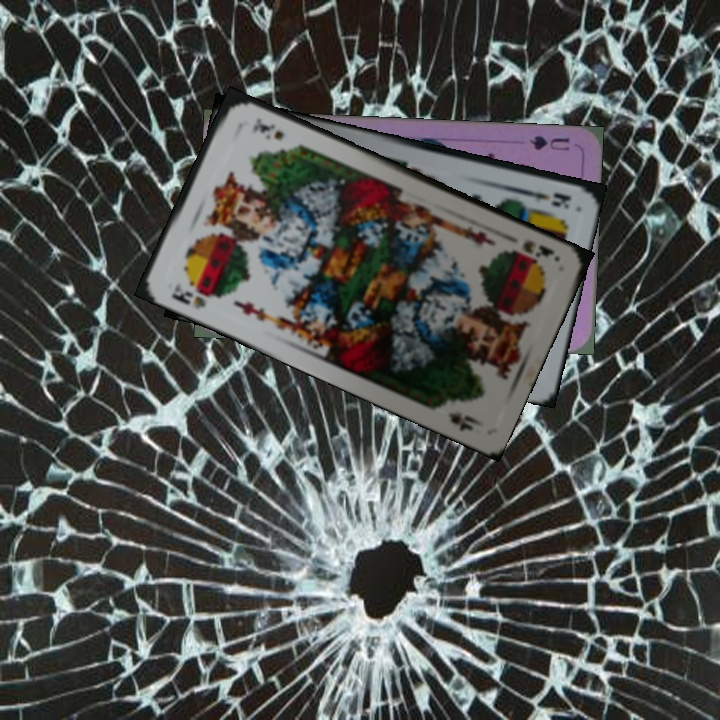EK: (517, 185, 574, 211)
GU: (526, 131, 572, 154)
SK: (168, 279, 208, 313), (518, 236, 557, 260)
